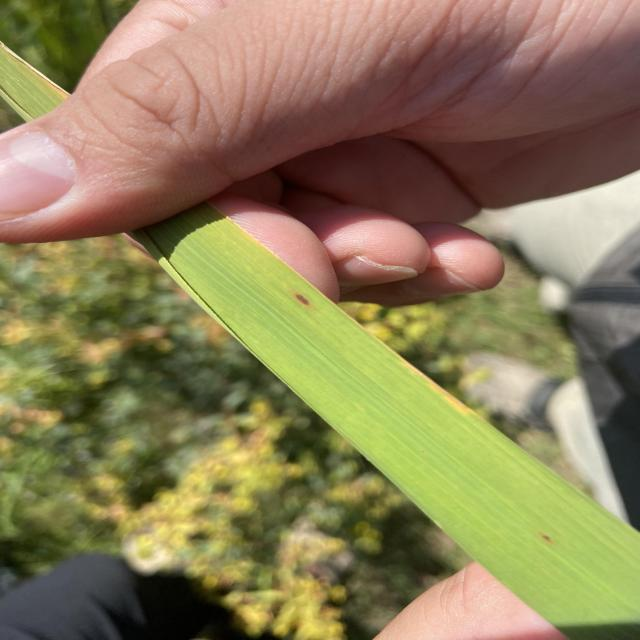Dom nau: (295, 294, 311, 306), (542, 535, 551, 542)
